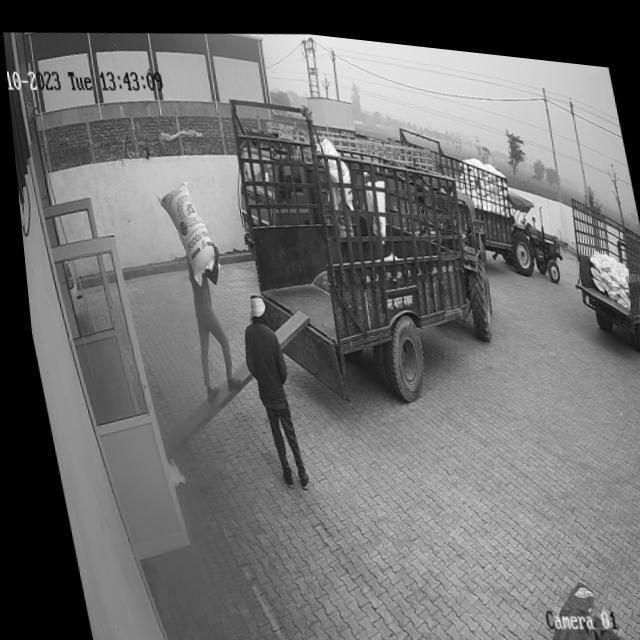sack: (150, 171, 219, 286)
